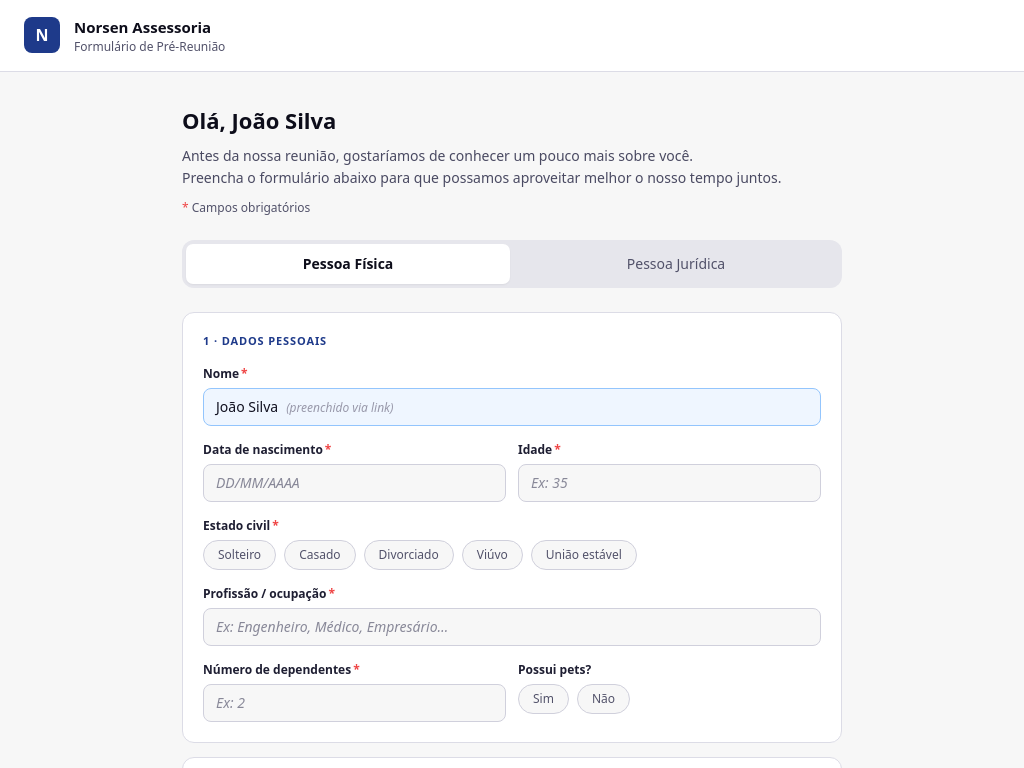
Test: FormPage › muda para aba PJ ao clicar
The width and height of the screenshot is (1024, 768).
Expected: the heading "Olá, João Silva" is shown, [182,104,336,134]
Click the button "Pessoa Jurídica": {"x": 676, "y": 264} [514,244,838,284]
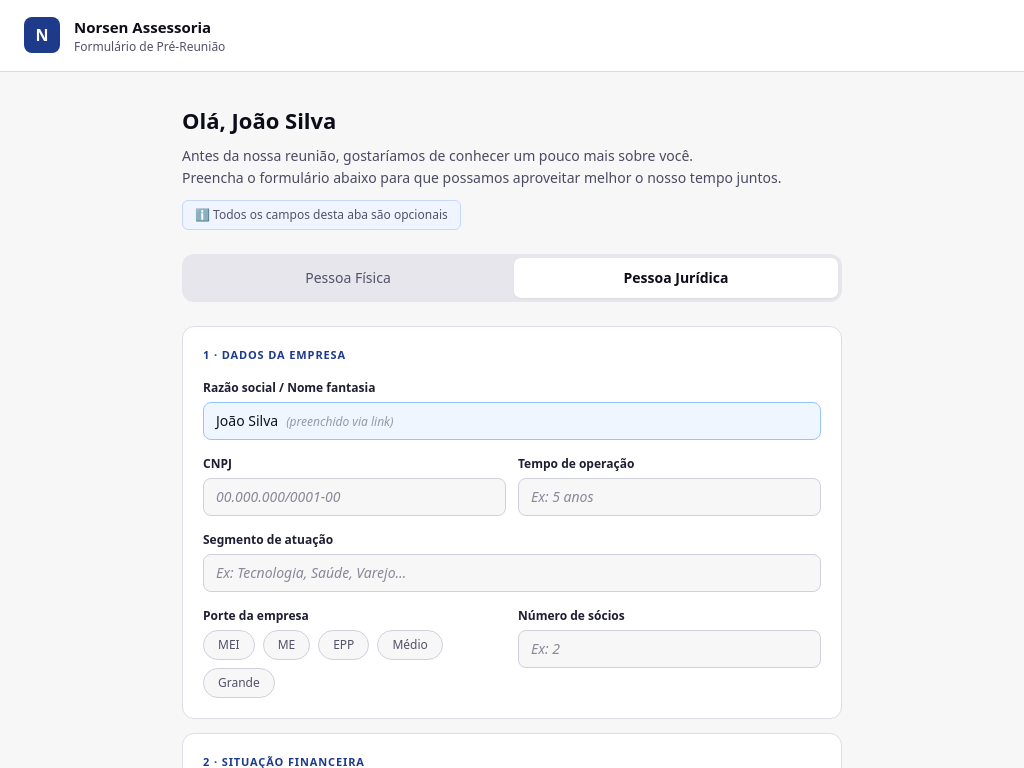
Expected: the text "ℹ️ Todos os campos desta aba são opcionais" is shown, [182,200,461,230]
